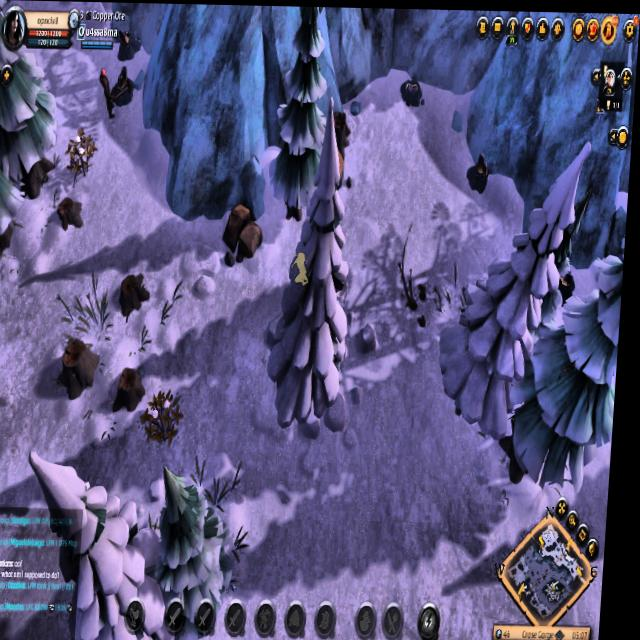copper_ore: (462, 150, 507, 198), (117, 27, 142, 60)
cotton: (147, 388, 194, 446), (66, 134, 103, 177)
limestone: (221, 195, 271, 268)
